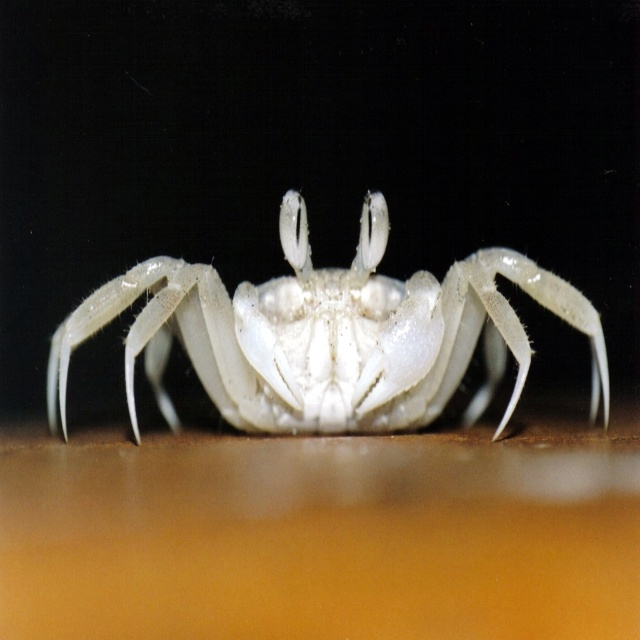Crab: (44, 179, 610, 445)
